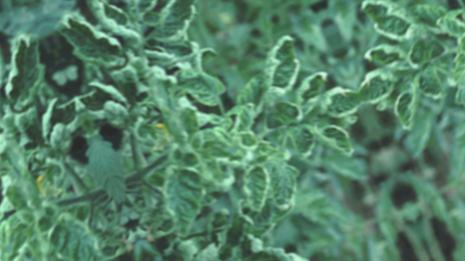Tomato leaf yellow virus: (25, 0, 131, 92), (140, 151, 228, 250), (215, 135, 294, 223), (245, 151, 316, 226), (68, 0, 145, 65), (251, 31, 314, 102), (306, 107, 363, 182), (296, 77, 366, 134), (94, 0, 193, 32), (140, 0, 221, 36)
